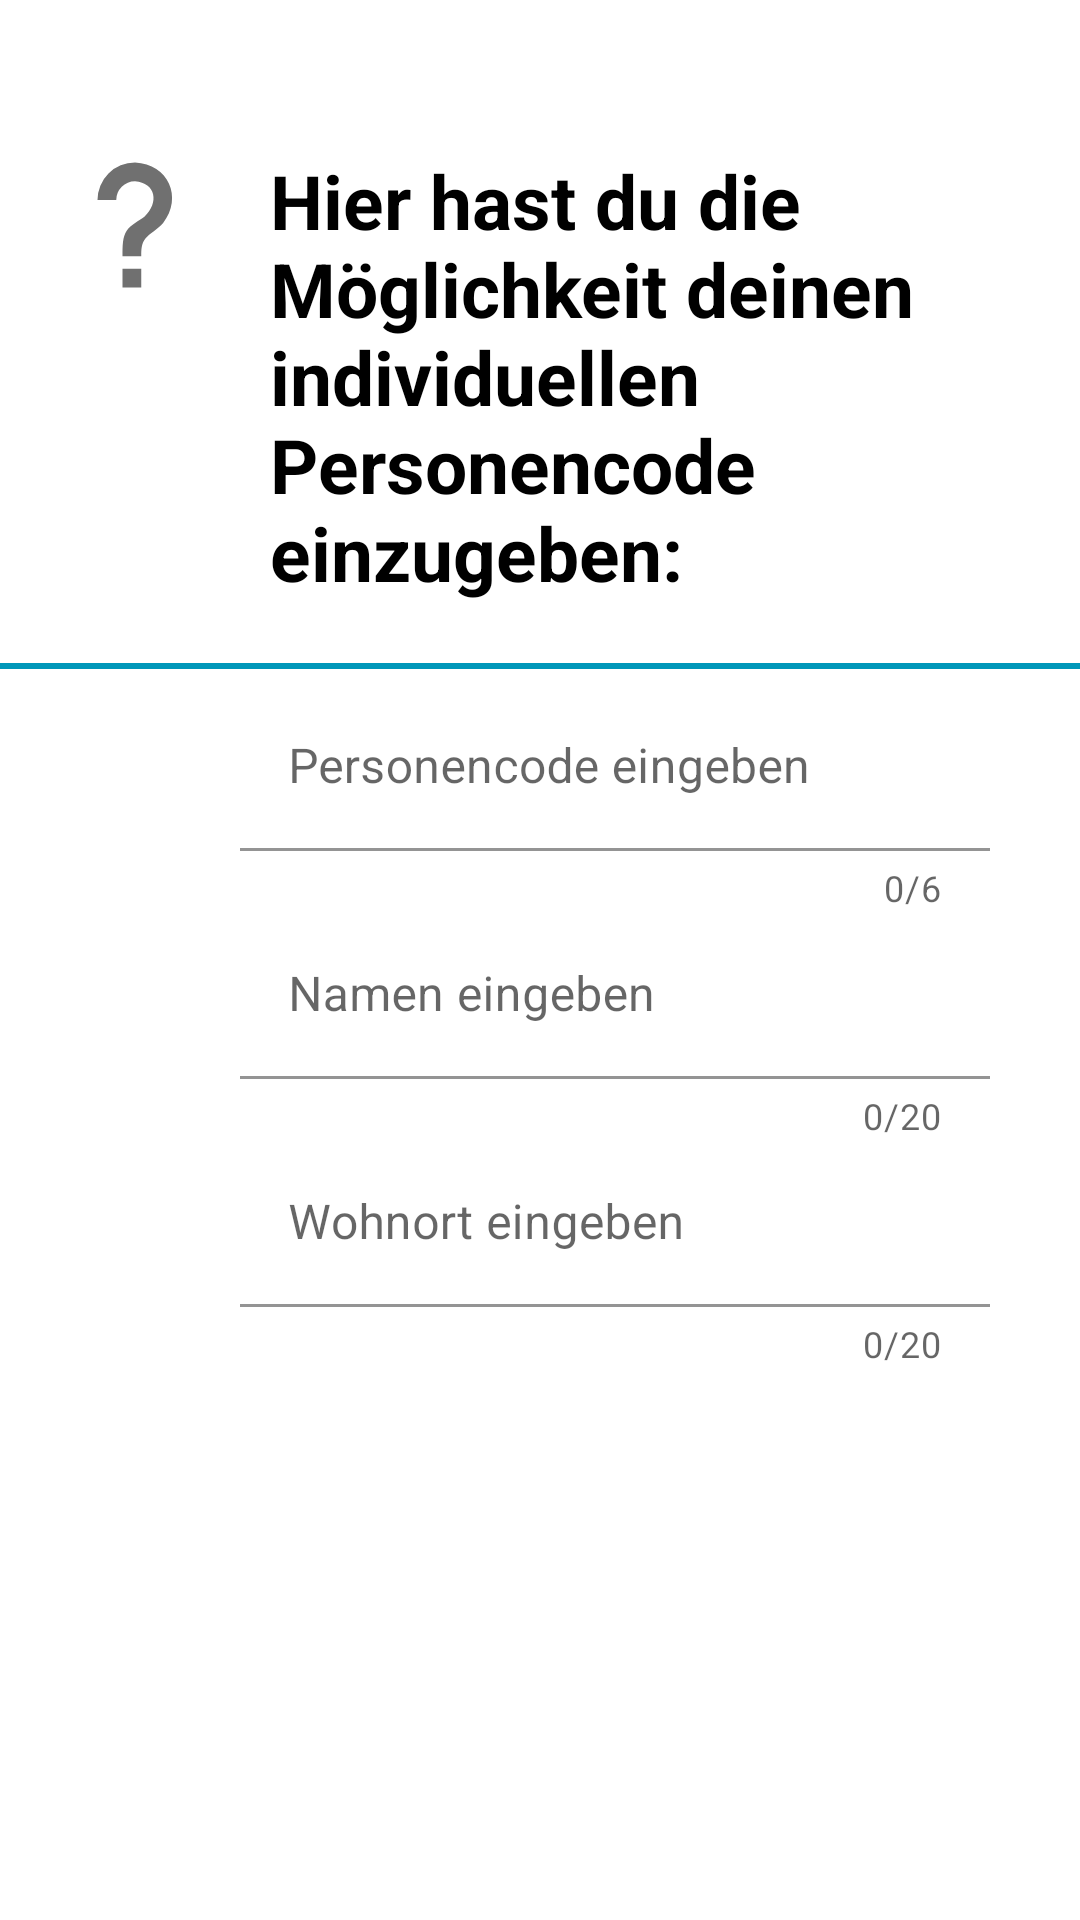

Named icons in this screenshot (1080*1920) and their centers, (x=x, y=y):
help: (x=134, y=225)
